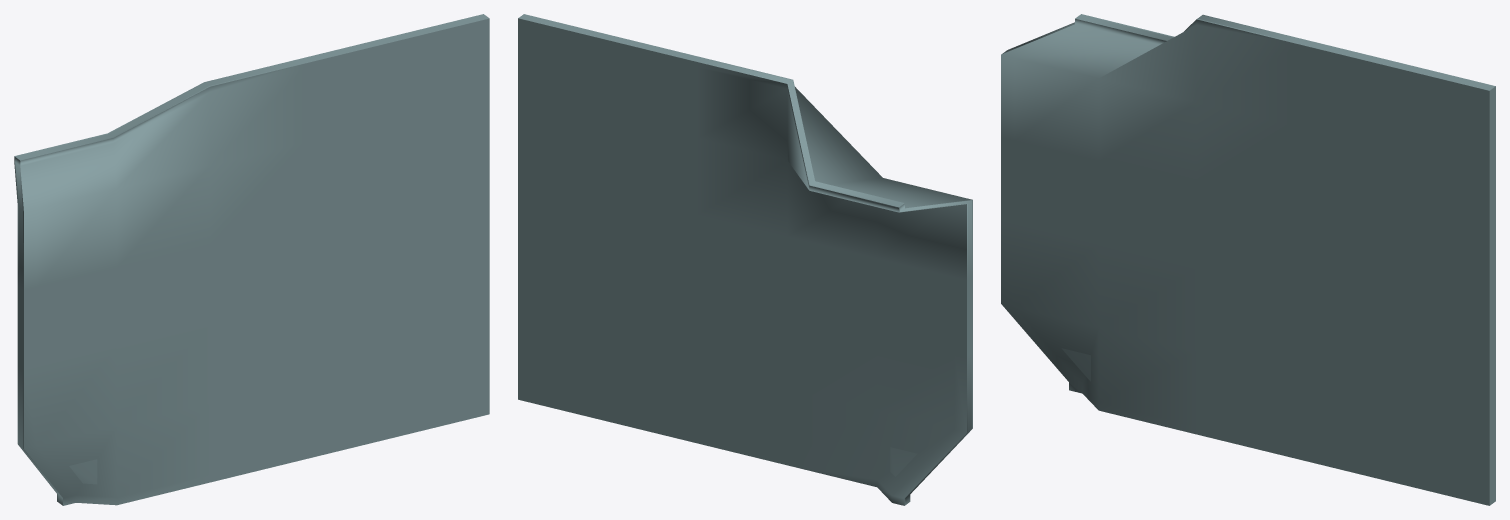
Rendered from Sloth_SmallPosterOne.fbx.
3 views of the same model, side by side, from view 1: azimuth 30°, elevation 25°; view 2: azimuth 150°, elevation 25°; view 3: azimuth 330°, elevation 25° (orthographic). The views are drawn at different scales.
Parts seen in each view (by area): view 1: poster2; view 2: poster2; view 3: poster2.
Part boxes in pixels (bbox=[...]): poster2: bbox=[14, 14, 489, 505]; poster2: bbox=[518, 14, 972, 505]; poster2: bbox=[1001, 14, 1495, 505].
Bounding box in the file's own units: 1.05 × 0.8489 × 0.1675.
